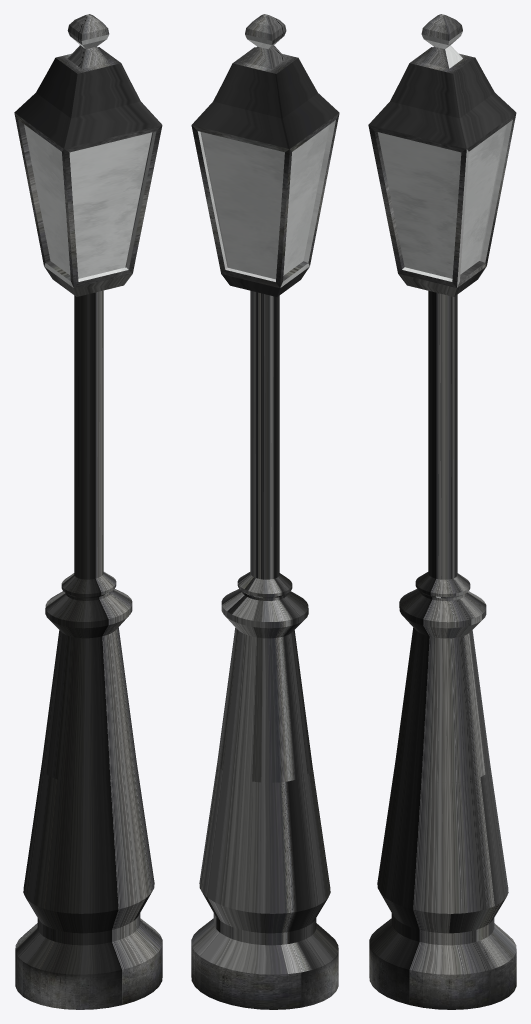
The model's file is lamp.obj.
The picture shows the model from 3 angles, left to right: view 1: azimuth 30°, elevation 25°; view 2: azimuth 150°, elevation 25°; view 3: azimuth 330°, elevation 25°; orthographic projection.
Parts seen in each view (by area): view 1: Cylinder_Cylinder.003, Cube_Cube.002; view 2: Cylinder_Cylinder.003, Cube_Cube.002; view 3: Cylinder_Cylinder.003, Cube_Cube.002.
Part boxes in pixels (bbox=[...]): Cylinder_Cylinder.003: bbox=[15, 290, 162, 1009]; Cube_Cube.002: bbox=[14, 14, 162, 296]; Cylinder_Cylinder.003: bbox=[191, 290, 338, 1009]; Cube_Cube.002: bbox=[191, 14, 339, 296]; Cylinder_Cylinder.003: bbox=[369, 291, 516, 1009]; Cube_Cube.002: bbox=[368, 14, 516, 296].
Size of the model in its own units: 1.26 by 8.83 by 1.11.
Materials: 1 (1 with a texture image).
